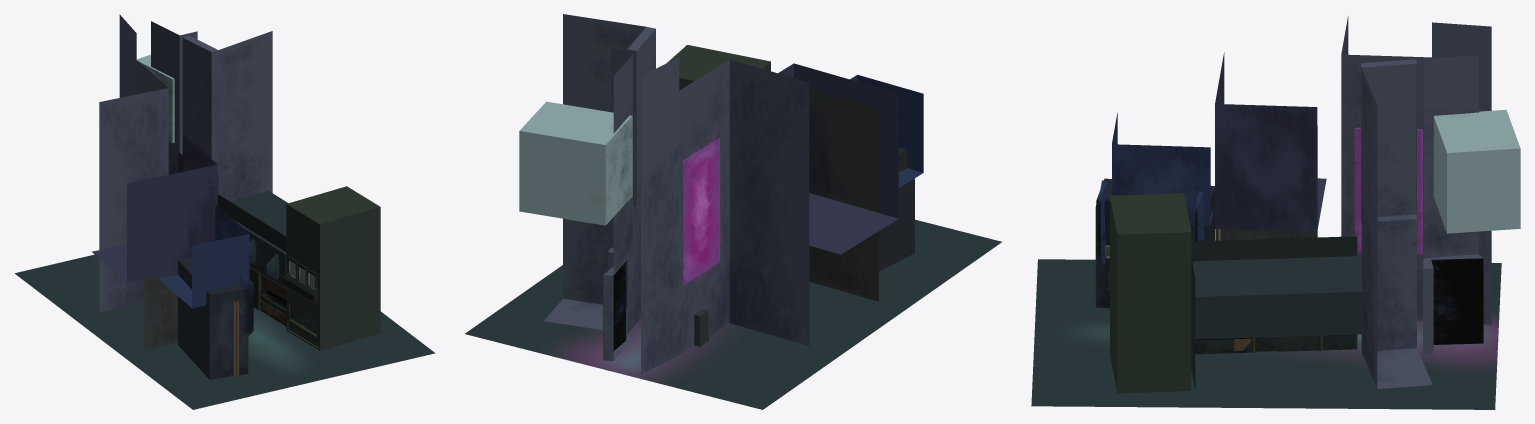
3 views of the same model, side by side, from view 1: azimuth 30°, elevation 25°; view 2: azimuth 150°, elevation 25°; view 3: azimuth 270°, elevation 25° (orthographic). The views are drawn at different scales.
Parts seen in each view (by area): view 1: B_L_R_03, Floor, B_R_01, B_L_02, B_L_01, B_R_06; view 2: B_L_R_03, Floor, B_L_02, B_L_01, B_R_01; view 3: B_L_R_03, Floor, B_R_06, B_R_01, B_L_02, B_L_01.
Boxes of the visible parts, x1,y1,x2,y2 form: B_L_R_03: (99,14,272,311); Floor: (15,254,434,409); B_R_01: (282,186,380,350); B_L_02: (92,134,217,349); B_L_01: (158,204,253,379); B_R_06: (218,191,288,326); B_L_R_03: (519,14,809,374); Floor: (465,219,1001,409); B_L_02: (778,63,898,301); B_L_01: (850,74,923,271); B_R_01: (667,45,770,90); B_L_R_03: (1341,16,1520,388); Floor: (1031,259,1501,409); B_R_06: (1191,236,1363,389); B_R_01: (1110,193,1191,393); B_L_02: (1215,52,1326,240); B_L_01: (1095,112,1215,308).
Bounding box in the file's own units: 4500 × 4263 × 6172.
